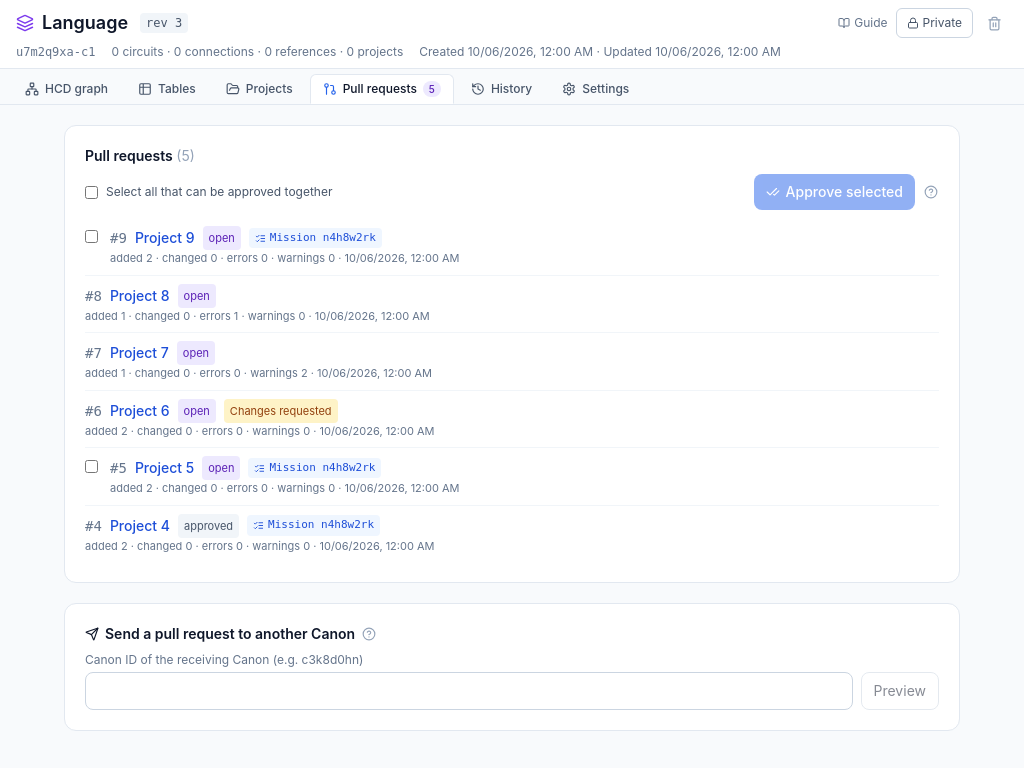
Test: bulk approval in the Canon › offers only conflict-free open pull requests, approves them oldest first and shows where it stopped
The width and height of the screenshot is (1024, 768).
Click the checkbox with test id "bulk-select-all". click: (92, 192)
box: [85,186,98,198]
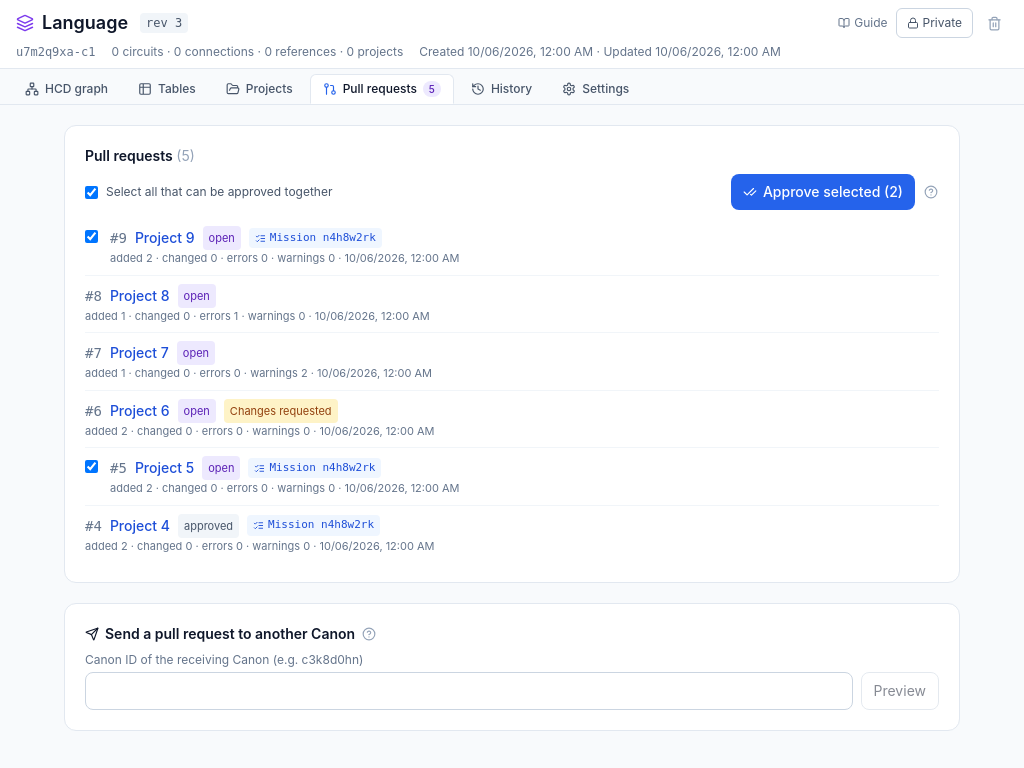
Click the button "Approve selected (2)". click: (823, 192)
box: [731,174,915,210]
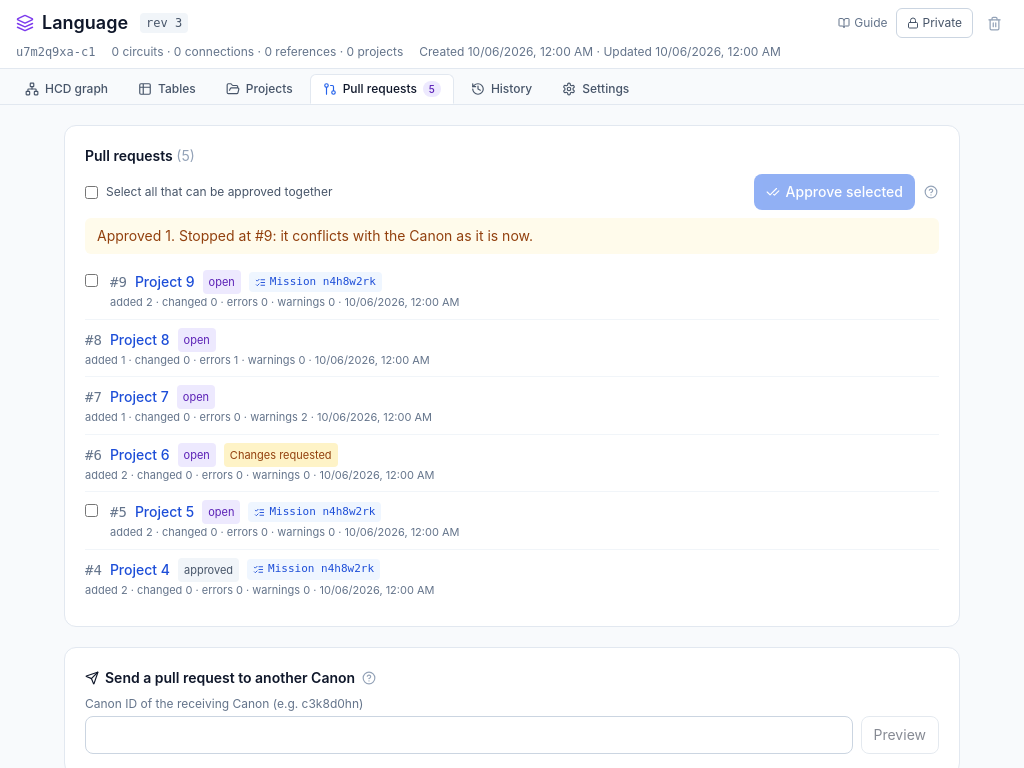
Check: the message with test id "bulk-result" reads "Approved 1. Stopped at #9: it conflicts with the Canon as it is now.", box [97,227,533,244]
